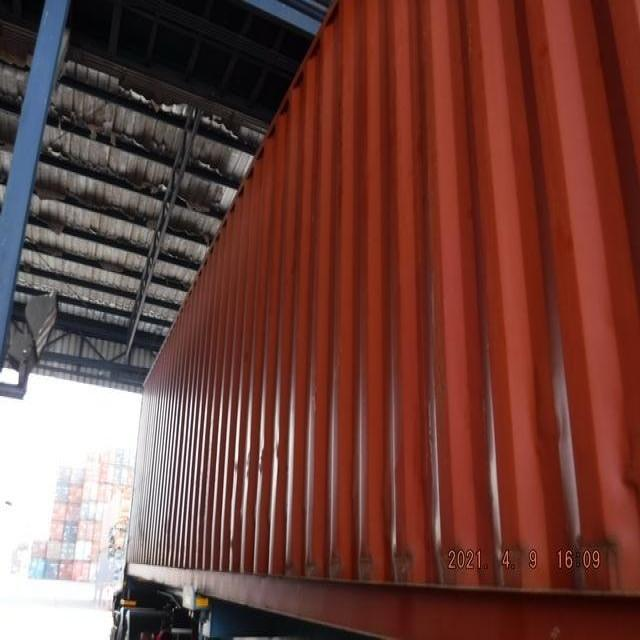dent: (278, 532, 629, 590), (618, 446, 640, 505)
